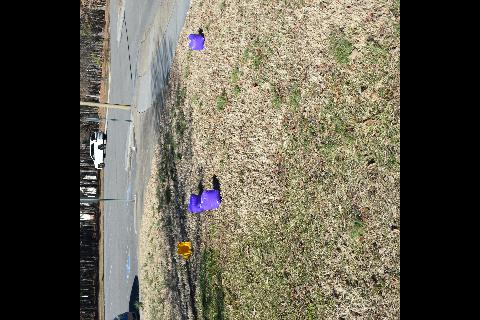cone: (178, 240, 192, 258)
cube: (201, 189, 221, 209), (188, 194, 204, 212), (189, 33, 205, 49)
